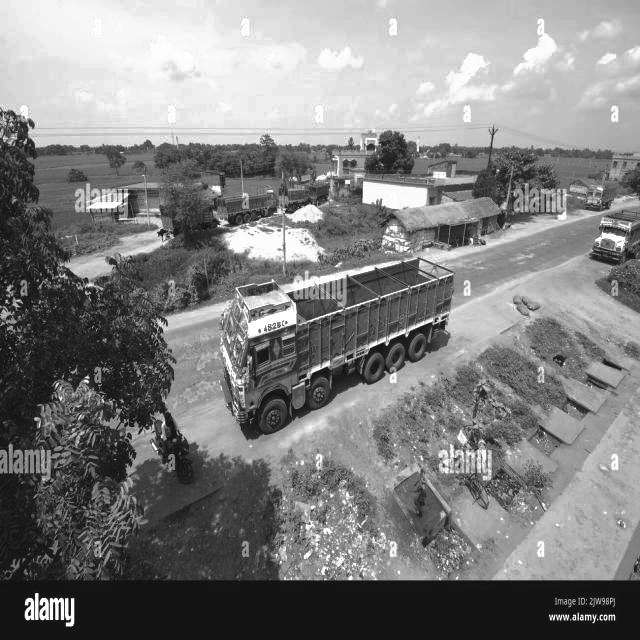HCV: (214, 251, 478, 447)
